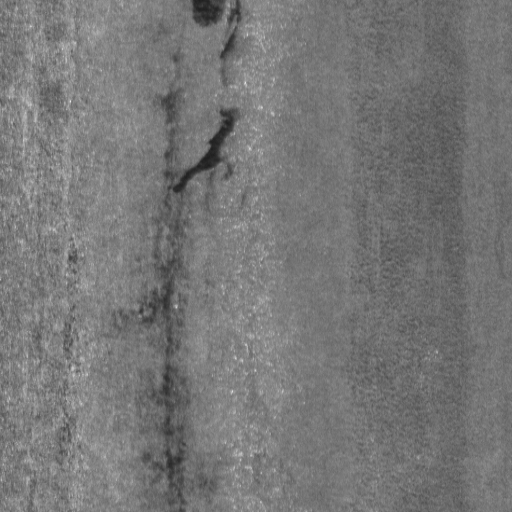zongxiangliewen: (171, 105, 237, 195), (217, 1, 241, 62)
